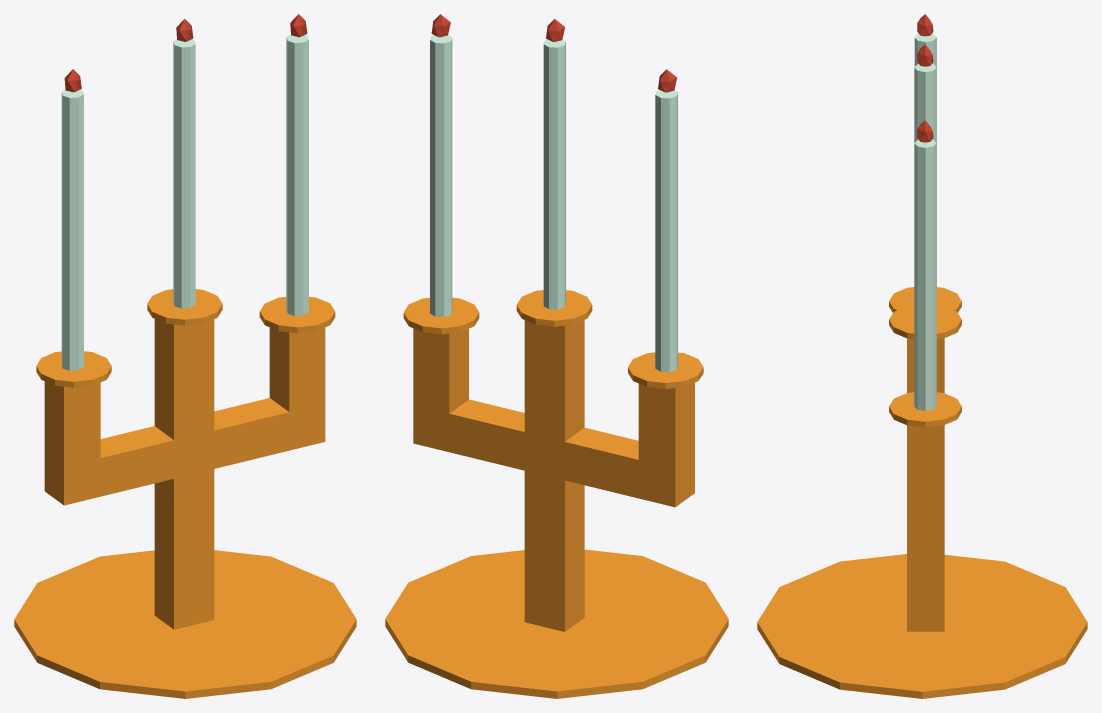
Rendered from candles.fbx.
3 renders of one model, left to right at view 1: azimuth 30°, elevation 25°; view 2: azimuth 150°, elevation 25°; view 3: azimuth 270°, elevation 25°, orthographic. The views are drawn at different scales.
Parts seen in each view (by area): view 1: Circle; view 2: Circle; view 3: Circle.
Part boxes in pixels (bbox=[...]): Circle: bbox=[14, 14, 356, 698]; Circle: bbox=[385, 14, 728, 698]; Circle: bbox=[757, 14, 1087, 698].
Bounding box in the file's own units: 200 × 391 × 200.
